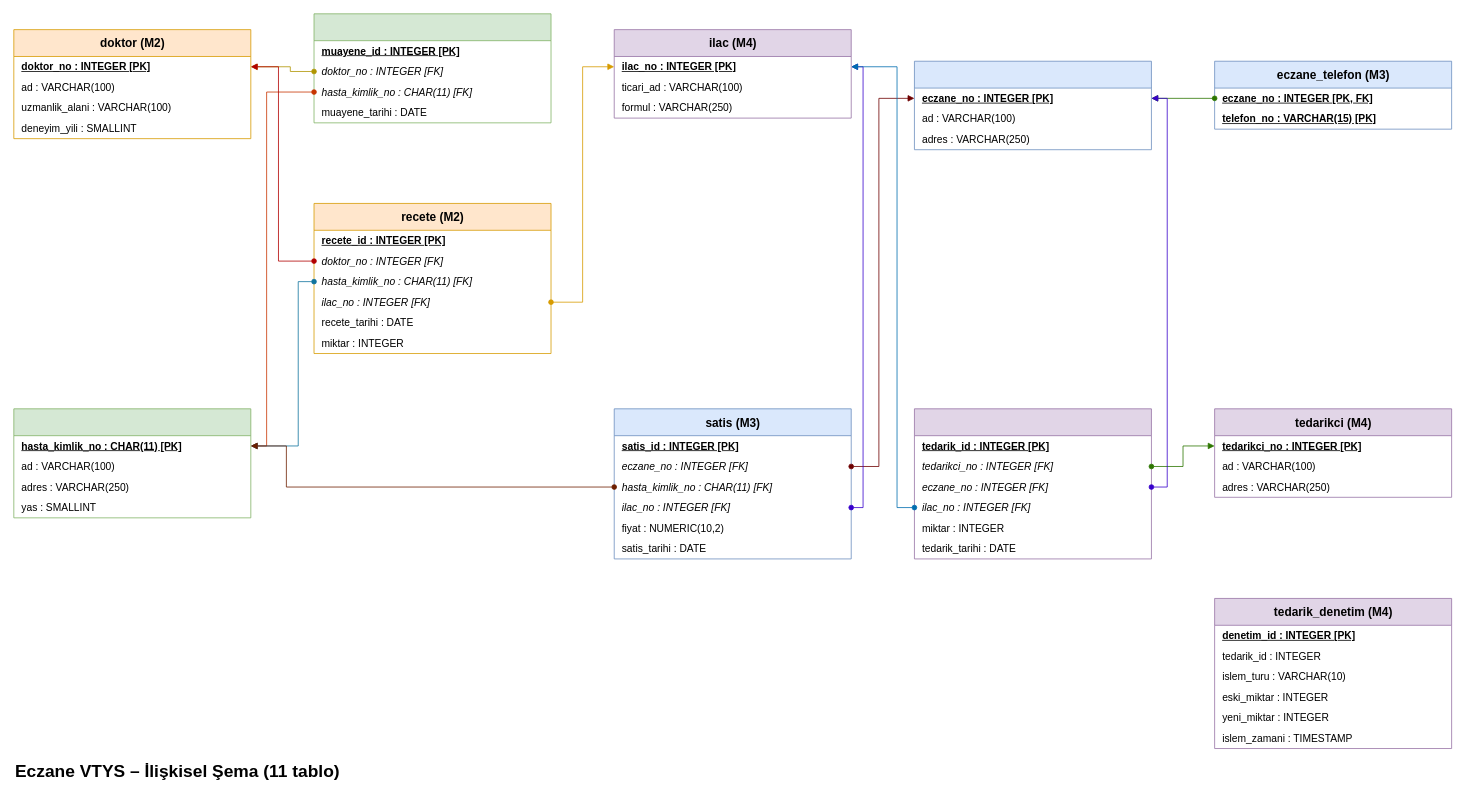
The diagram is 1465 pixels wide and 802 high, and some of its shapes have lost their labels. Here are the shapes that lost their labels. From the top down, the box of each, then its label:
(313, 13, 551, 123): muayene (M1)
(914, 60, 1151, 150): eczane (M3)
(13, 408, 251, 518): hasta (M1)
(914, 408, 1151, 559): tedarik (M4)
